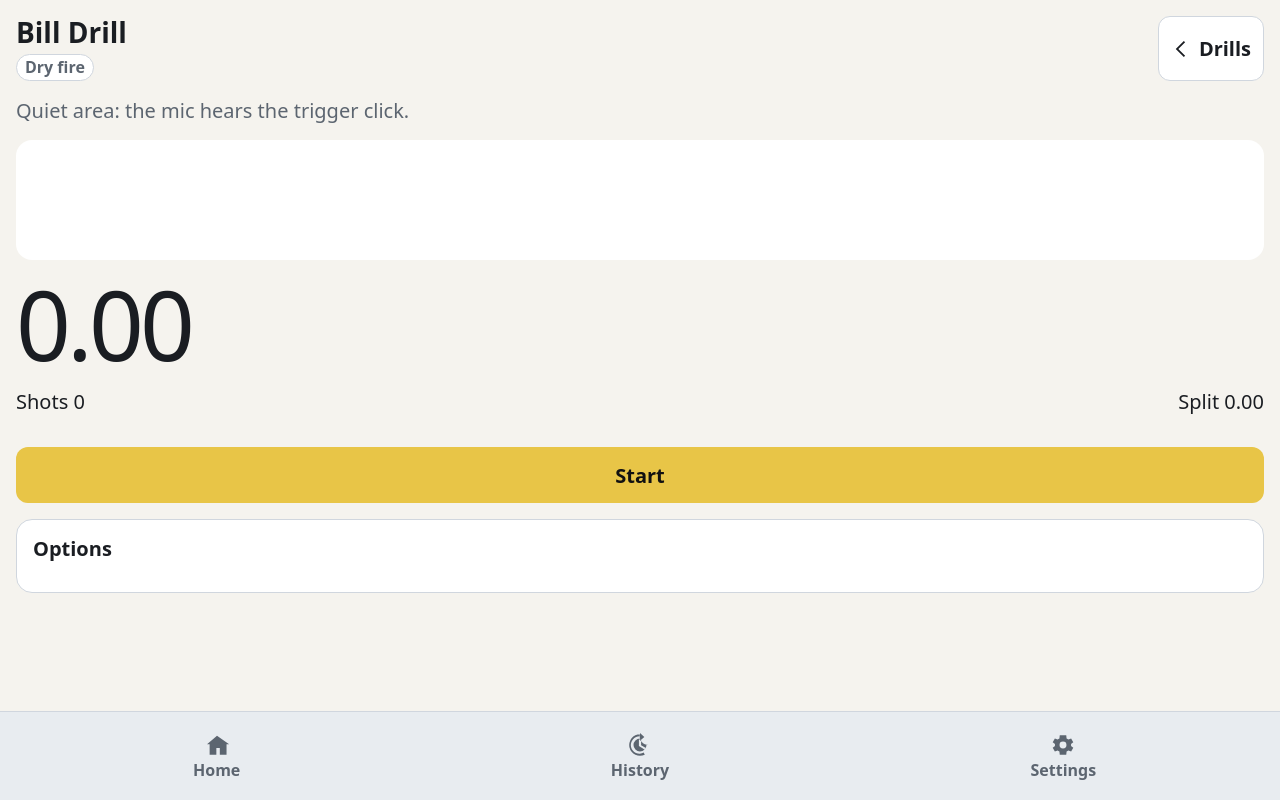
pages › starts a drill on the first click
Click the button with test id "start". click: click(640, 475)
box: [16,447,1264,503]
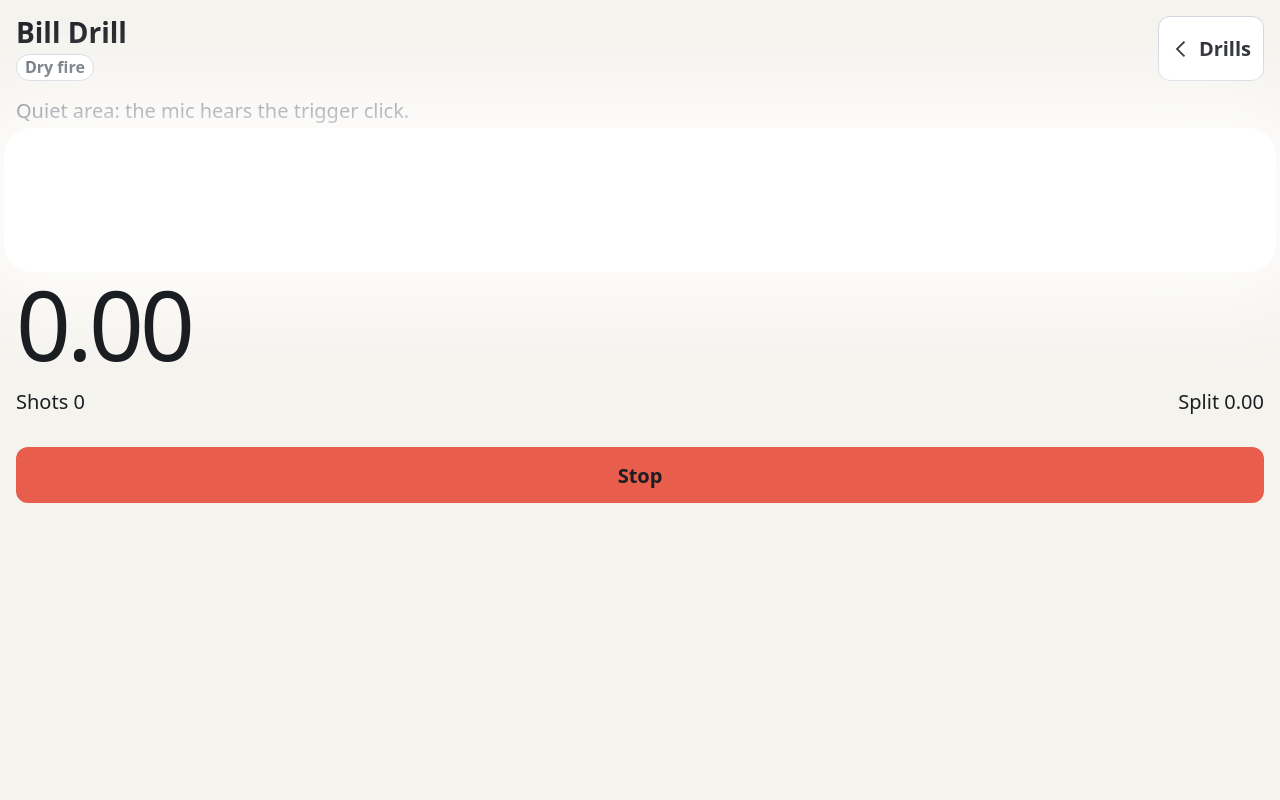
Expected: the button with test id "stop" is shown, [16,447,1264,503]
